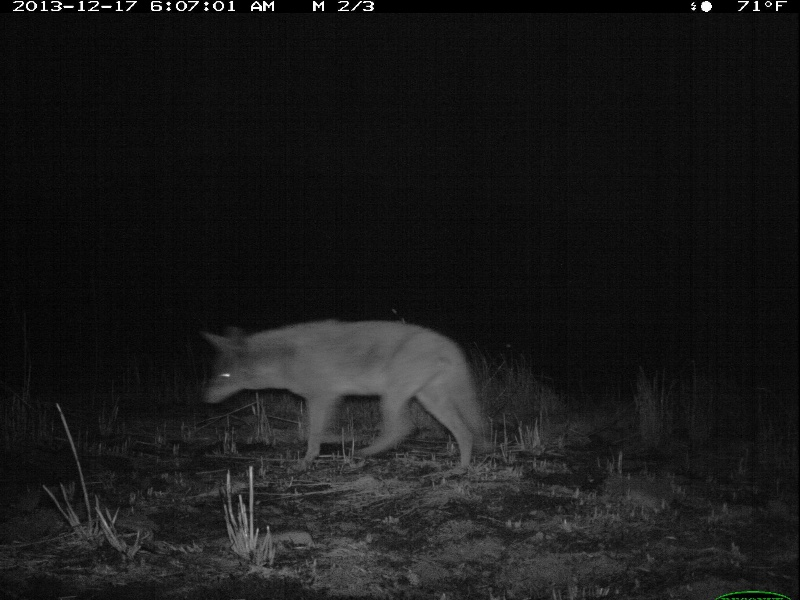coyote: (191, 319, 496, 470)
